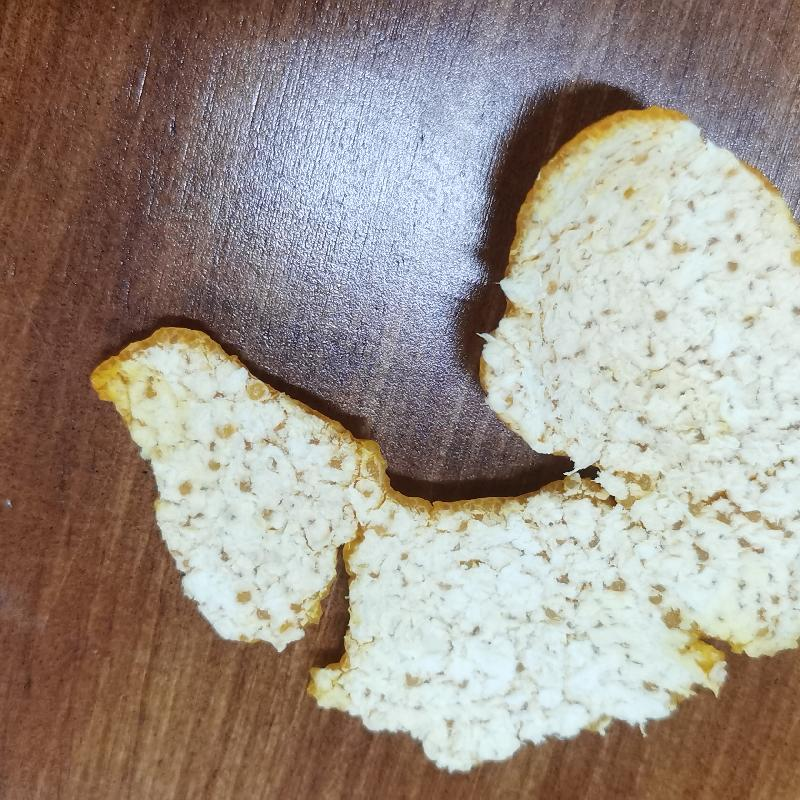orange: (92, 104, 800, 775)
